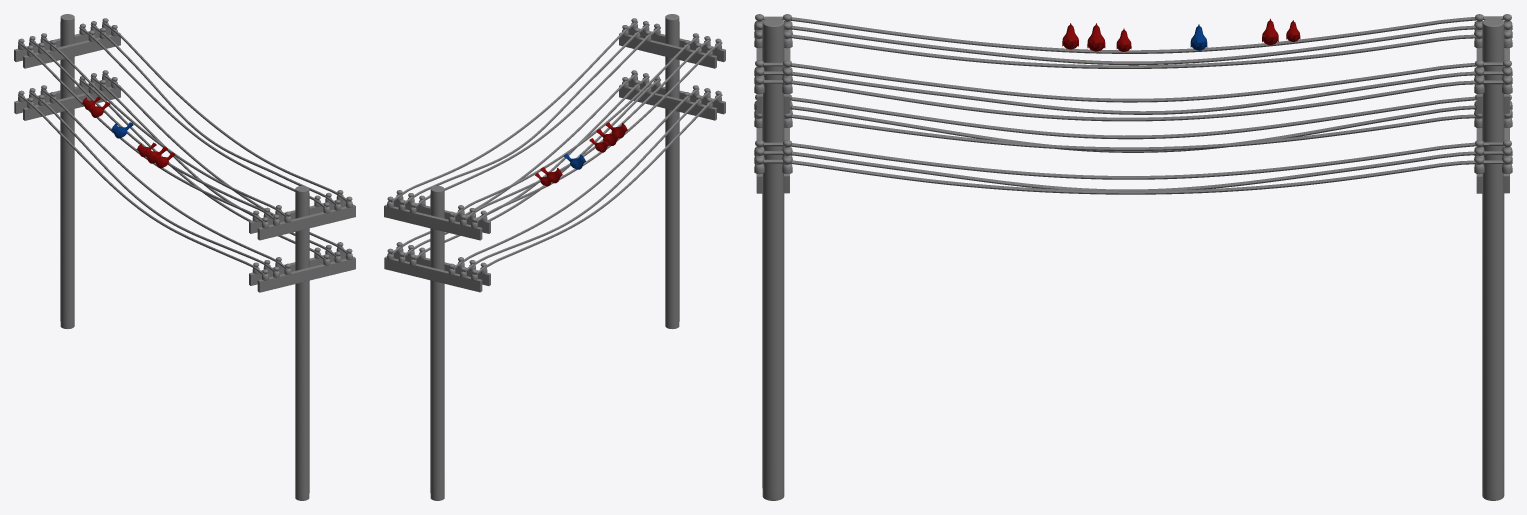
The model's file is BirdsOnAWire.obj.
The picture shows the model from 3 angles, left to right: view 1: azimuth 30°, elevation 25°; view 2: azimuth 150°, elevation 25°; view 3: azimuth 270°, elevation 25°; orthographic projection. The views are drawn at different scales.
Parts seen in each view (by area): view 1: pCylinder1, pCylinder2, pCube3, pCube1, pCube8, pCube6, pCylinder55, pCylinder33, pCylinder40, pCylinder3, pCylinder25, pCylinder10 (+10 smaller); view 2: pCylinder2, pCylinder1, pCube7, pCube5, pCube2, pCube4, pCylinder40, pCylinder33, pCylinder10, pCylinder55, pCylinder3, pCylinder25 (+10 smaller); view 3: pCylinder2, pCylinder1, pCylinder3, pCylinder52, pCylinder11, pCylinder62, pCylinder10, pCylinder33, pCylinder32, pCylinder18, pCylinder40, pCylinder25 (+2 smaller).
Part boxes in pixels (<box>): pCylinder1: <box>295,185,309,500</box>; pCylinder2: <box>60,14,74,329</box>; pCube3: <box>257,256,355,292</box>; pCube1: <box>257,204,355,240</box>; pCube8: <box>23,32,120,68</box>; pCube6: <box>23,85,120,120</box>; pCylinder55: <box>29,91,276,272</box>; pCylinder33: <box>18,94,264,275</box>; pCylinder40: <box>41,88,287,269</box>; pCylinder3: <box>102,21,349,202</box>; pCylinder25: <box>41,36,287,217</box>; pCylinder10: <box>90,24,337,205</box>; pCylinder2: <box>430,185,444,500</box>; pCylinder1: <box>665,14,679,329</box>; pCube7: <box>384,204,482,240</box>; pCube5: <box>384,256,482,292</box>; pCube2: <box>619,32,716,68</box>; pCube4: <box>619,84,716,120</box>; pCylinder40: <box>452,88,699,269</box>; pCylinder33: <box>475,93,722,274</box>; pCylinder10: <box>402,24,649,205</box>; pCylinder55: <box>464,91,710,272</box>; pCylinder3: <box>391,21,637,202</box>; pCylinder25: <box>452,36,699,217</box>; pCylinder2: <box>1482,17,1504,500</box>; pCylinder1: <box>762,17,784,500</box>; pCylinder3: <box>763,80,1504,121</box>; pCylinder52: <box>762,159,1504,194</box>; pCylinder11: <box>763,62,1503,102</box>; pCylinder62: <box>763,142,1503,179</box>; pCylinder10: <box>763,71,1504,114</box>; pCylinder33: <box>790,96,1476,139</box>; pCylinder32: <box>763,16,1503,53</box>; pCylinder18: <box>790,25,1476,65</box>; pCylinder40: <box>790,114,1476,150</box>; pCylinder25: <box>790,34,1476,68</box>.
Size of the model in its own units: 5.88 by 17.11 by 24.77.
